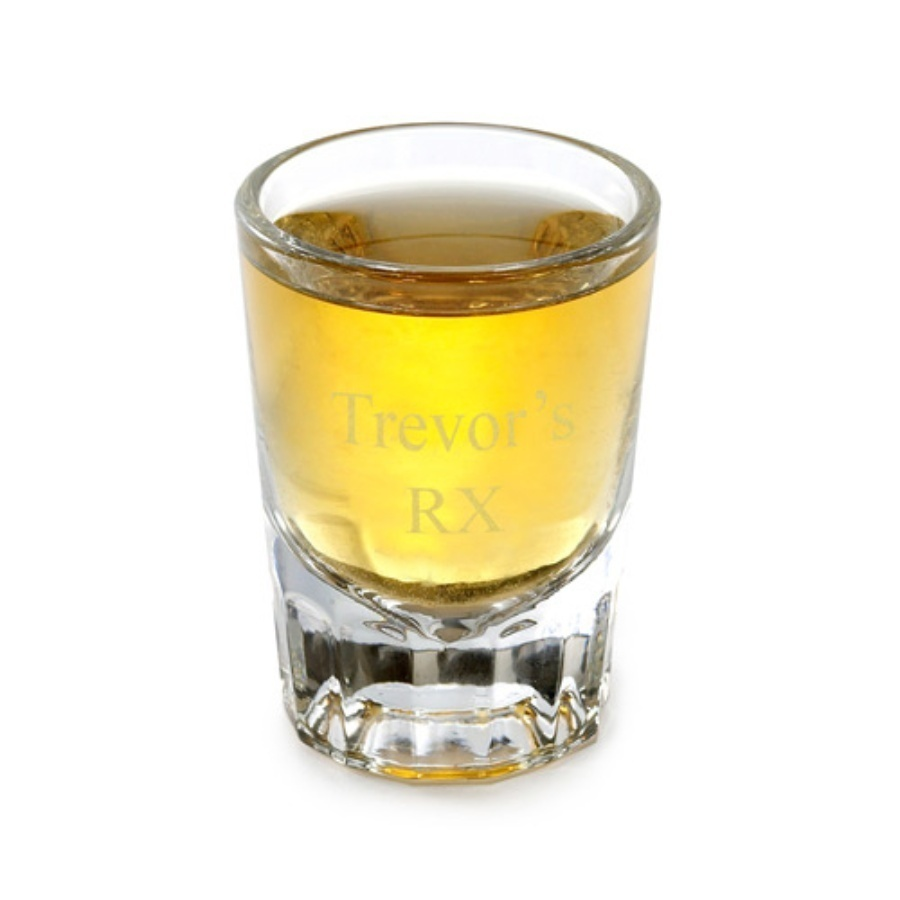whiskey: (230, 83, 653, 766)
